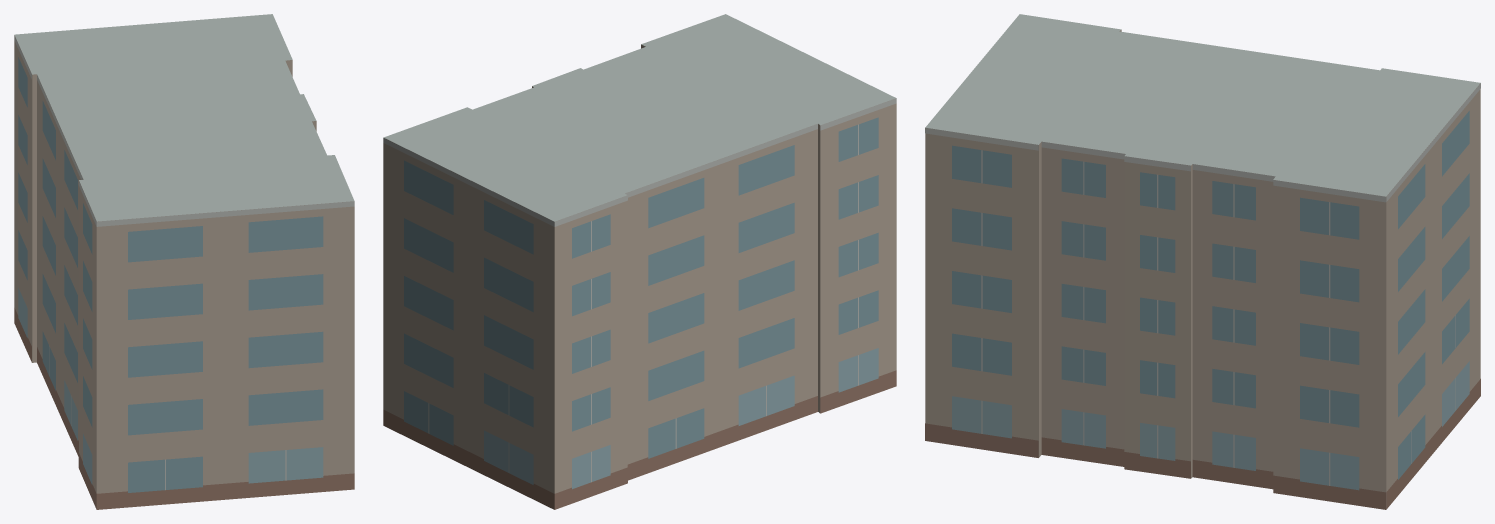
File: survey-upis-32713064.glb
3 views of the same model, side by side, from view 1: azimuth 30°, elevation 25°; view 2: azimuth 150°, elevation 25°; view 3: azimuth 270°, elevation 25° (orthographic). The views are drawn at different scales.
Visible parts, largest first — view 1: survey-upis-32713064.tmp; view 2: survey-upis-32713064.tmp; view 3: survey-upis-32713064.tmp.
Boxes of the visible parts, x1,y1,x2,y2 form: survey-upis-32713064.tmp: [14, 14, 354, 509]; survey-upis-32713064.tmp: [383, 14, 896, 509]; survey-upis-32713064.tmp: [925, 14, 1480, 509].
Size of the model in its own units: 16.46 by 13.15 by 21.15.
